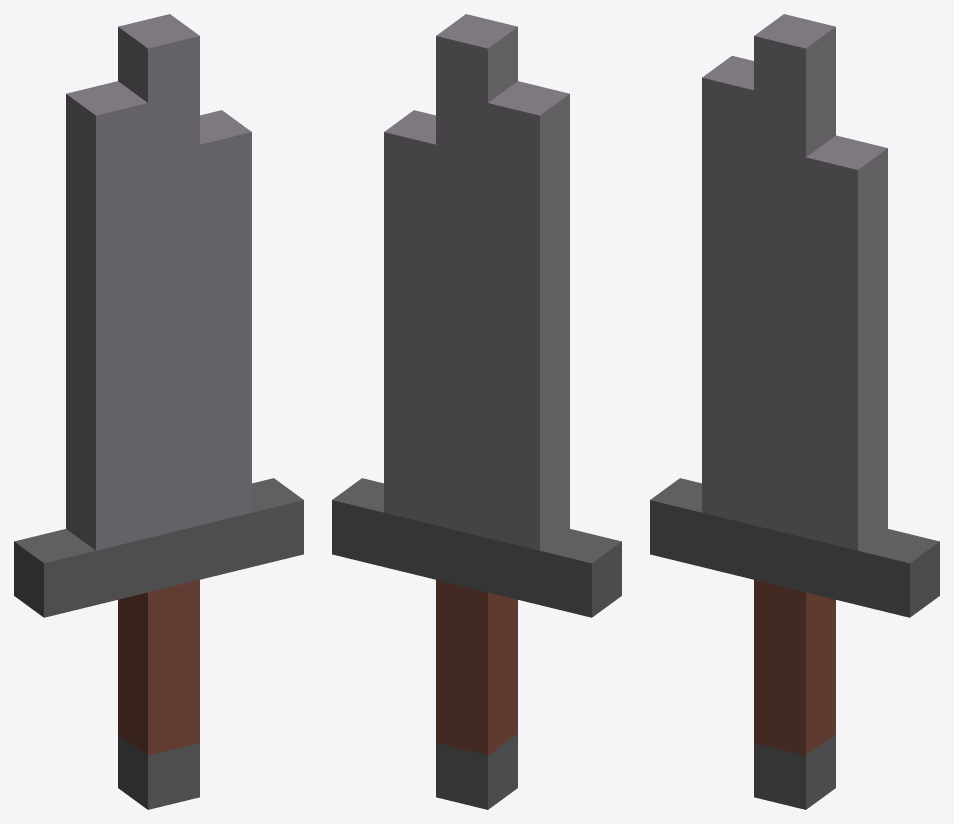
The model's file is BrokenSword.obj.
3 views of the same model, side by side, from view 1: azimuth 30°, elevation 25°; view 2: azimuth 150°, elevation 25°; view 3: azimuth 330°, elevation 25° (orthographic).
Size of the model in its own units: 0.5 by 1.4 by 0.1.
1 material, 1 textured.
